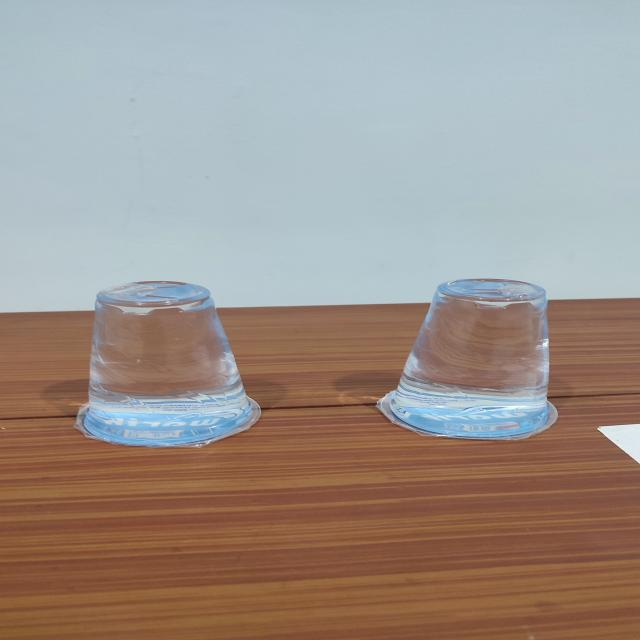air gelas: (62, 278, 278, 454), (371, 273, 573, 444)
